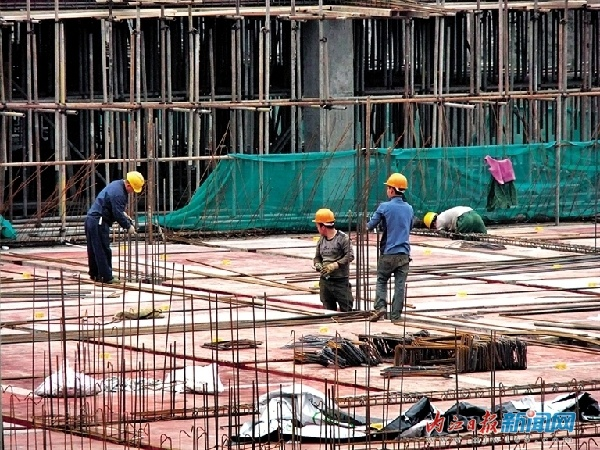yellow: (311, 206, 340, 236), (383, 172, 409, 200), (120, 168, 145, 197), (422, 209, 441, 230)
